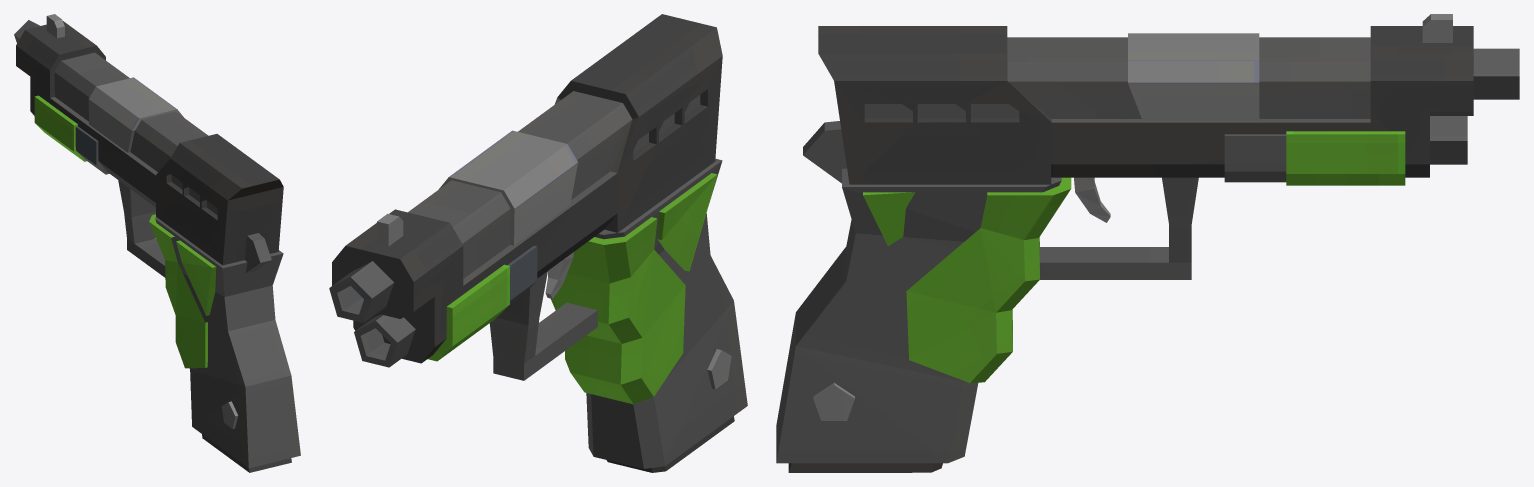
File: pistol_2.glb
3 renders of one model, left to right at view 1: azimuth 30°, elevation 25°; view 2: azimuth 150°, elevation 25°; view 3: azimuth 270°, elevation 25°, orthographic. The views are drawn at different scales.
Visible parts, largest first — view 1: pistol_2; view 2: pistol_2; view 3: pistol_2.
Part boxes in pixels (<box>): pistol_2: <box>14,14,300,472</box>; pistol_2: <box>329,14,747,472</box>; pistol_2: <box>776,14,1519,472</box>.
Size of the model in its own units: 0.0518 by 0.2123 by 0.3247.
1 material, 1 textured.
